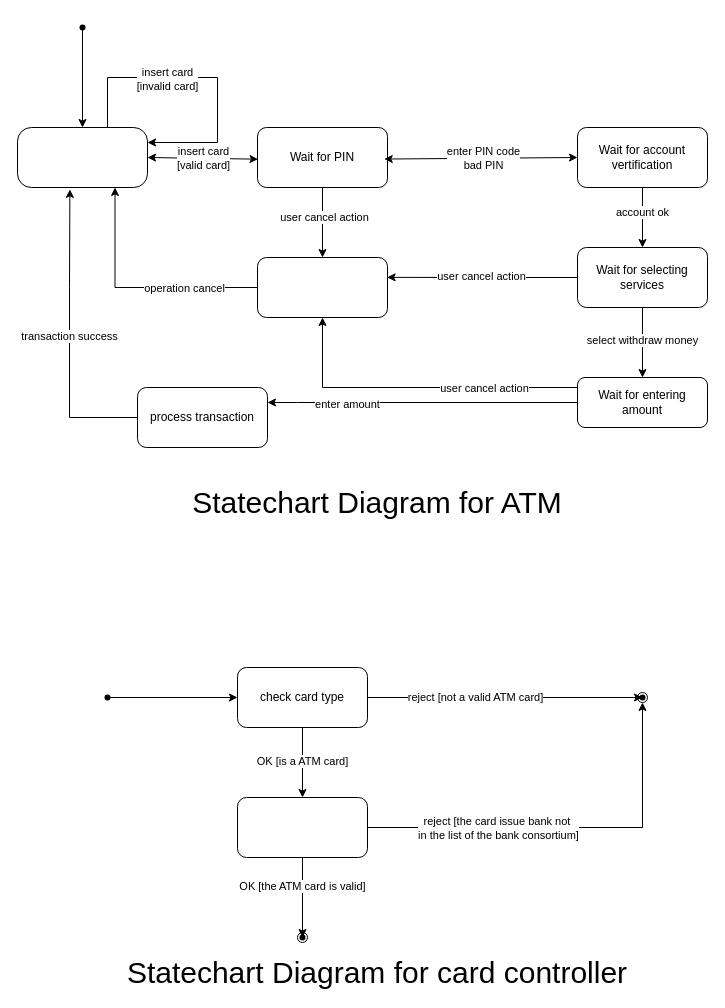
Image size: 725x1008. Some labels were removed from this diagram. The shapes that lost their labels are listed below. From the top down, each one's centre as x and y in pixels, then its label:
At (82,157): "Main Screen".
At (322,287): "Cancel".
At (302,827): "check card with bank consortium".
